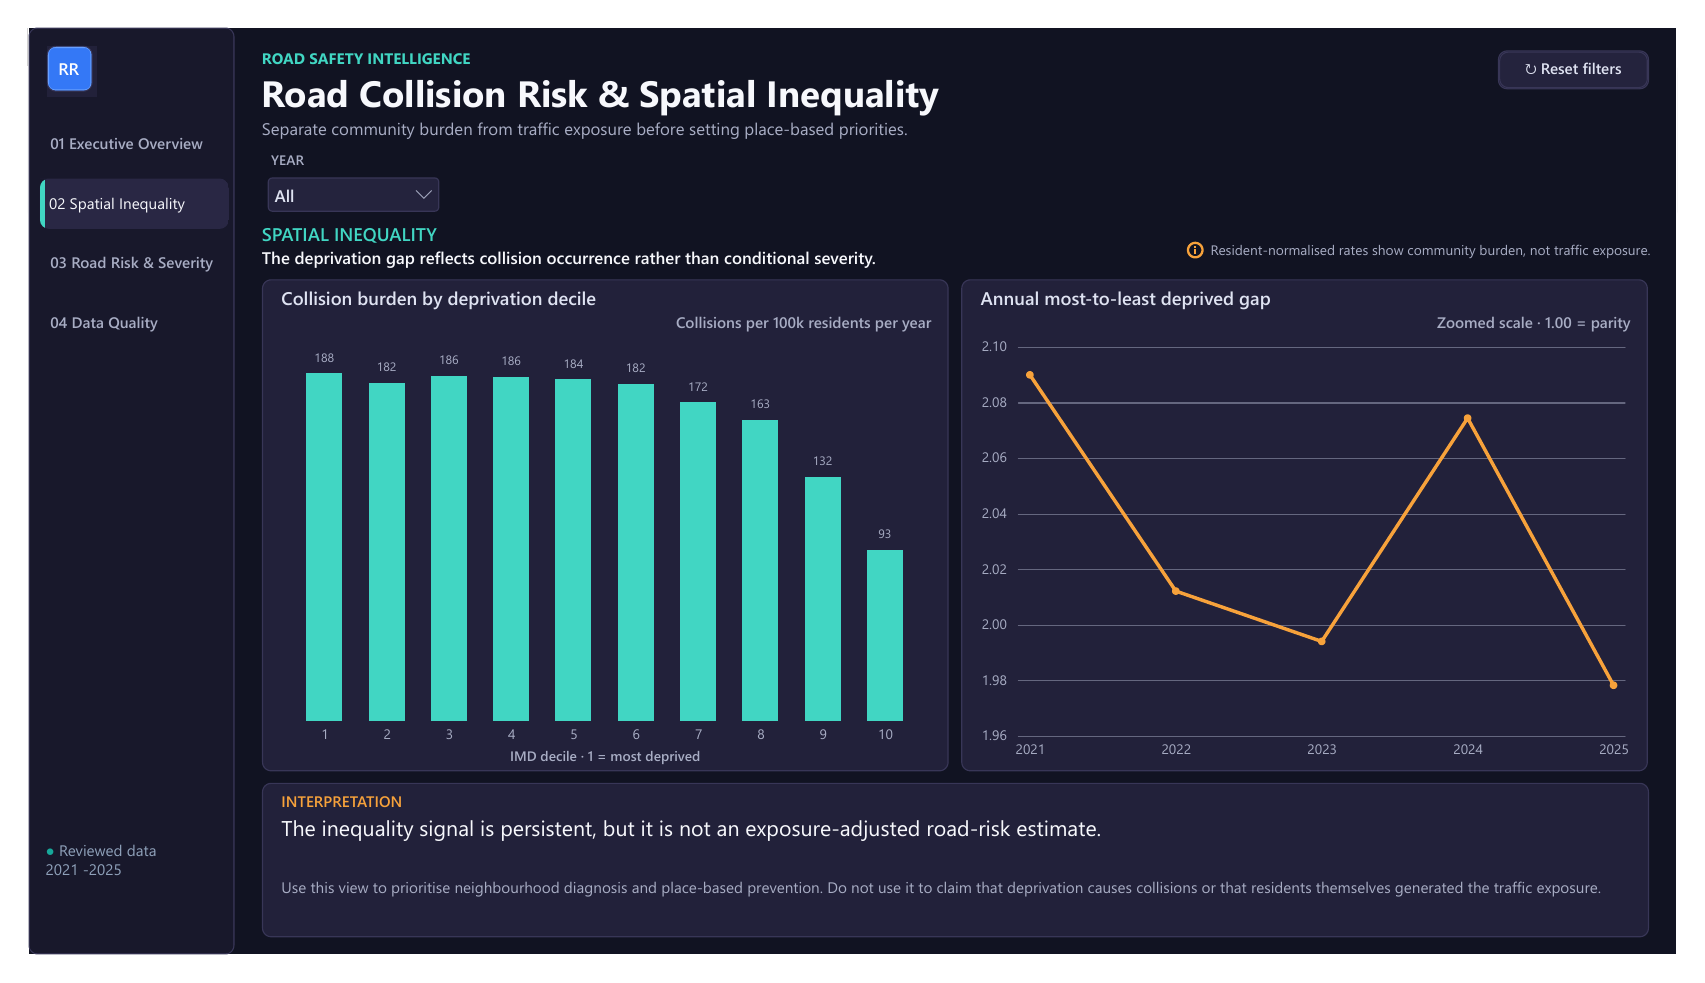

What the dashboard file says about the page in this screenshot:
{"tool":"powerbi","page":{"name":"02 Spatial Inequality","canvas":[1440,810],"ordinal":1},"visuals":[{"type":"shape","box":[0,0,180,810],"z":0},{"type":"shape","box":[16,16,40,40],"z":0,"group":"g1"},{"type":"textbox","box":[26,26,33.8,34.6],"z":1000,"group":"g1"},{"type":"clusteredColumnChart","title":"Collision burden by deprivation decile","fields":{"Category":["dim_lsoa.imd_decile"],"Y":["_Measures.Collisions per 100k Resident-Years"]},"box":[204,220,600,430],"z":1000},{"type":"textbox","box":[15,710,120,50],"z":2000},{"type":"lineChart","title":"Annual most-to-least deprived gap","fields":{"Category":["dim_year.collision_year"],"Y":["_Measures.Most-to-Least Deprived Ratio Chart"]},"box":[815,220,600,430],"z":3000},{"type":"pageNavigator","box":[10,80,165,200],"z":4000},{"type":"group","id":"g1","title":"Group 7","box":[16,16,43.8,44.6],"z":5000},{"type":"actionButton","title":"Reset filters","box":[1284,20,132,34],"z":6000},{"type":"textbox","box":[204,18,700,85],"z":7000},{"type":"slicer","fields":{"Values":["dim_year.year_label"]},"box":[204,108,160,54],"z":8000},{"type":"textbox","box":[204,170,700,70],"z":9000},{"type":"shape","title":"INTERPRETATION","box":[204,660,1212,135],"z":11000},{"type":"actionButton","box":[1000,180,440,30],"z":12000}]}

Visuals, with their boxes in screenshot pixels (x1, y1, x2, y2), scaled from the page's 1440x810 canvas onto the 1705x983 screenshot:
shape: l=0, t=0, r=213, b=982
shape: l=19, t=19, r=66, b=68
textbox: l=31, t=32, r=71, b=74
"Collision burden by deprivation decile" clusteredColumnChart: l=242, t=267, r=952, b=789
textbox: l=18, t=862, r=160, b=922
"Annual most-to-least deprived gap" lineChart: l=965, t=267, r=1675, b=789
pageNavigator: l=12, t=97, r=207, b=340
"Group 7" group: l=19, t=19, r=71, b=74
"Reset filters" actionButton: l=1520, t=24, r=1677, b=66
textbox: l=242, t=22, r=1070, b=125
slicer - dim_year.year_label: l=242, t=131, r=431, b=197
textbox: l=242, t=206, r=1070, b=291
"INTERPRETATION" shape: l=242, t=801, r=1677, b=965
actionButton: l=1184, t=218, r=1704, b=255
